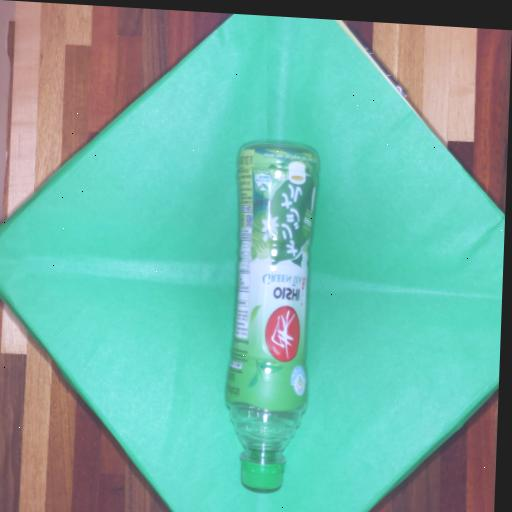bottle: (226, 144, 318, 490)
